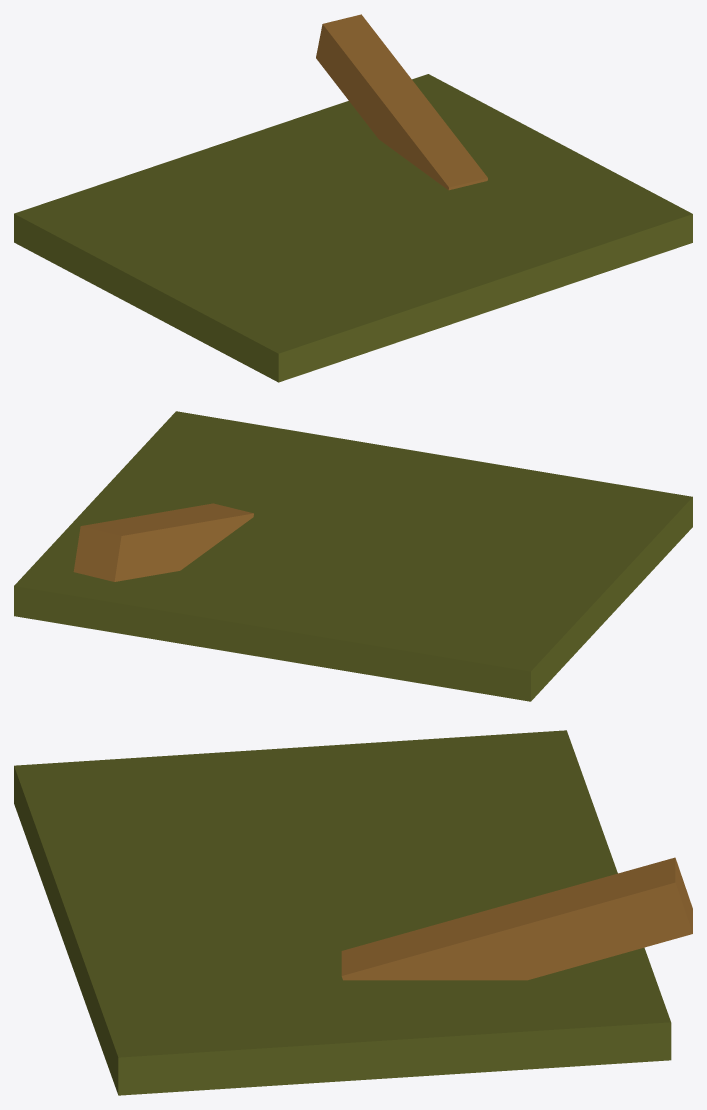
Rendered from SM_Tienda_v4_Caida_LOD1.fbx.
The picture shows the model from 3 angles, top to bottom: view 1: azimuth 30°, elevation 25°; view 2: azimuth 150°, elevation 25°; view 3: azimuth 270°, elevation 25°; orthographic projection. The views are drawn at different scales.
Parts seen in each view (by area): view 1: SM_vida_fuerte_v19_LOD1; view 2: SM_vida_fuerte_v19_LOD1; view 3: SM_vida_fuerte_v19_LOD1.
Part boxes in pixels (left/top/right/bottom): SM_vida_fuerte_v19_LOD1: left=14, top=14, right=692, bottom=382; SM_vida_fuerte_v19_LOD1: left=14, top=411, right=692, bottom=701; SM_vida_fuerte_v19_LOD1: left=14, top=730, right=692, bottom=1095.
Size of the model in its own units: 4.43 by 0.9159 by 3.89.
